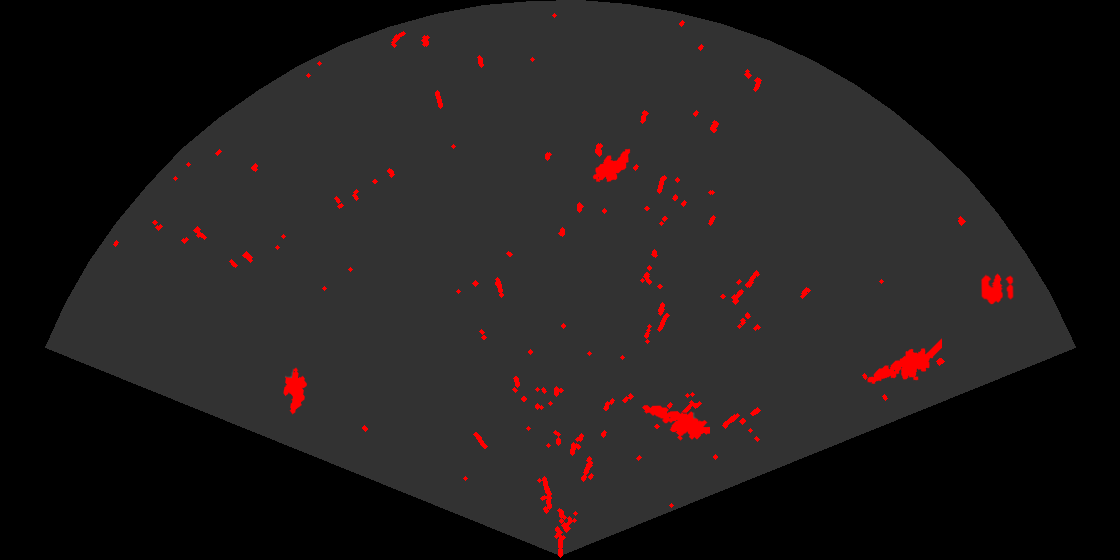AUV: (591, 147, 632, 184), (282, 366, 309, 416)
ball: (980, 272, 1015, 306)
frogman: (866, 337, 942, 386), (641, 403, 710, 442)
